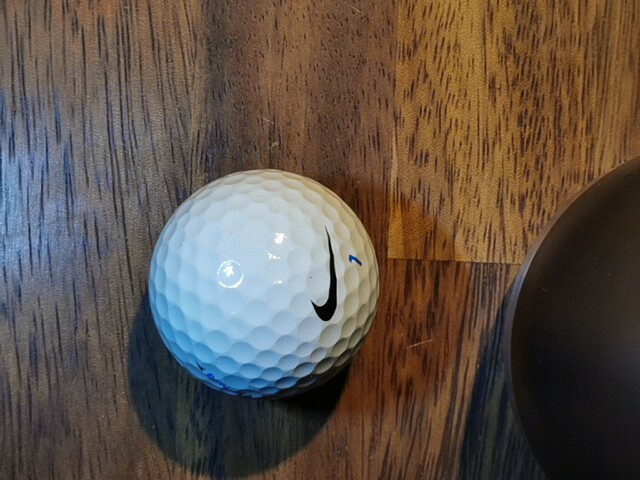Ball: (148, 168, 380, 397)
Nike: (310, 225, 337, 321)
